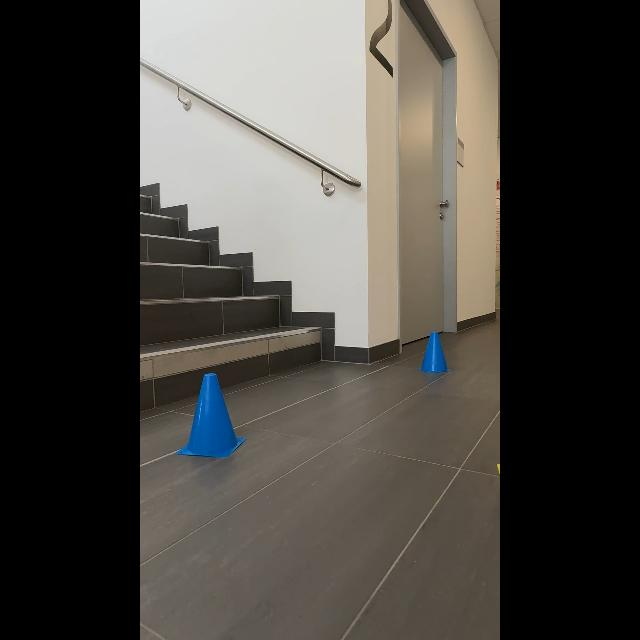blue_cone: (175, 361, 248, 464), (411, 324, 454, 381)
